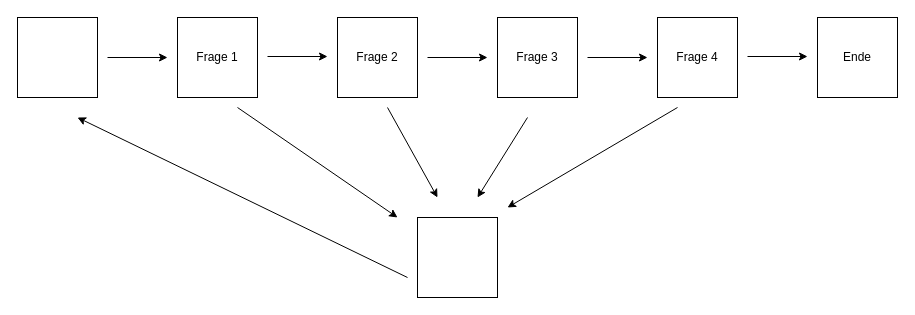
This 915x315 diagram has some shape labels left out. The shapes that lost their labels are listed below. From the top down, each one's centre as x and y in pixels, then its label:
At point 57,57: "Startseite".
At point 457,257: "falsche Frage".
